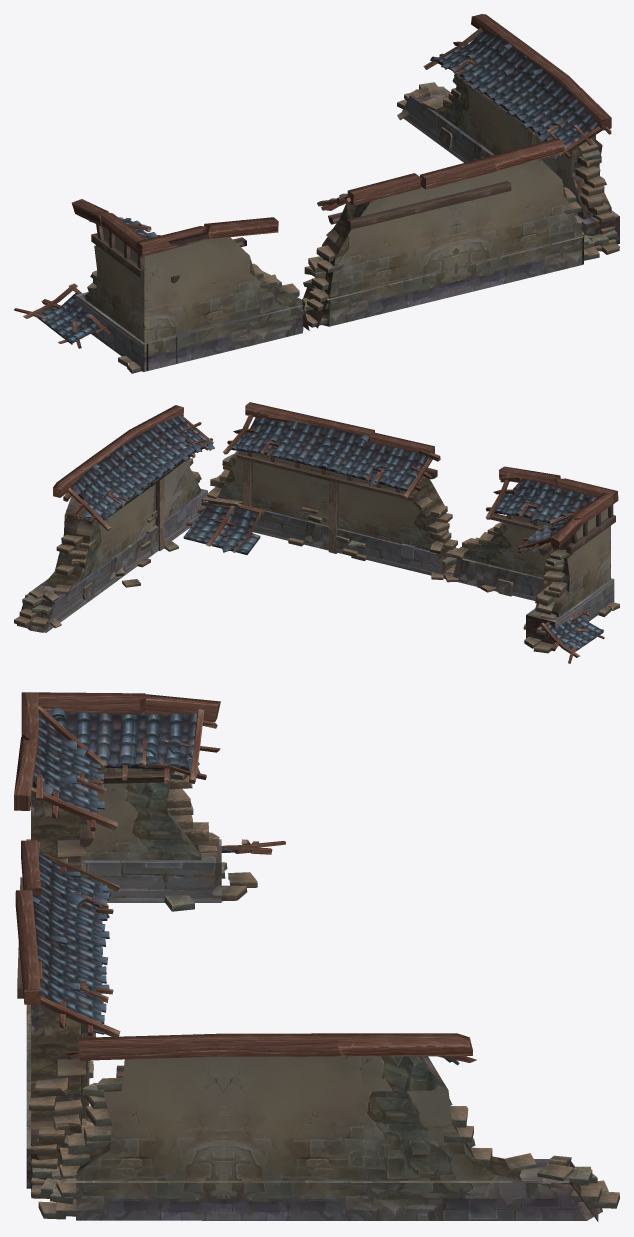
Rendered from yeguai01.FBX.
The picture shows the model from 3 angles, top to bottom: view 1: azimuth 30°, elevation 25°; view 2: azimuth 150°, elevation 25°; view 3: azimuth 270°, elevation 25°; orthographic projection. The views are drawn at different scales.
Parts seen in each view (by area): view 1: Box001; view 2: Box001; view 3: Box001.
Boxes of the visible parts, x1,y1,x2,y2 form: Box001: [14, 14, 619, 373]; Box001: [14, 402, 619, 663]; Box001: [14, 692, 619, 1221].
Size of the model in its own units: 18.42 by 4.36 by 12.61.
